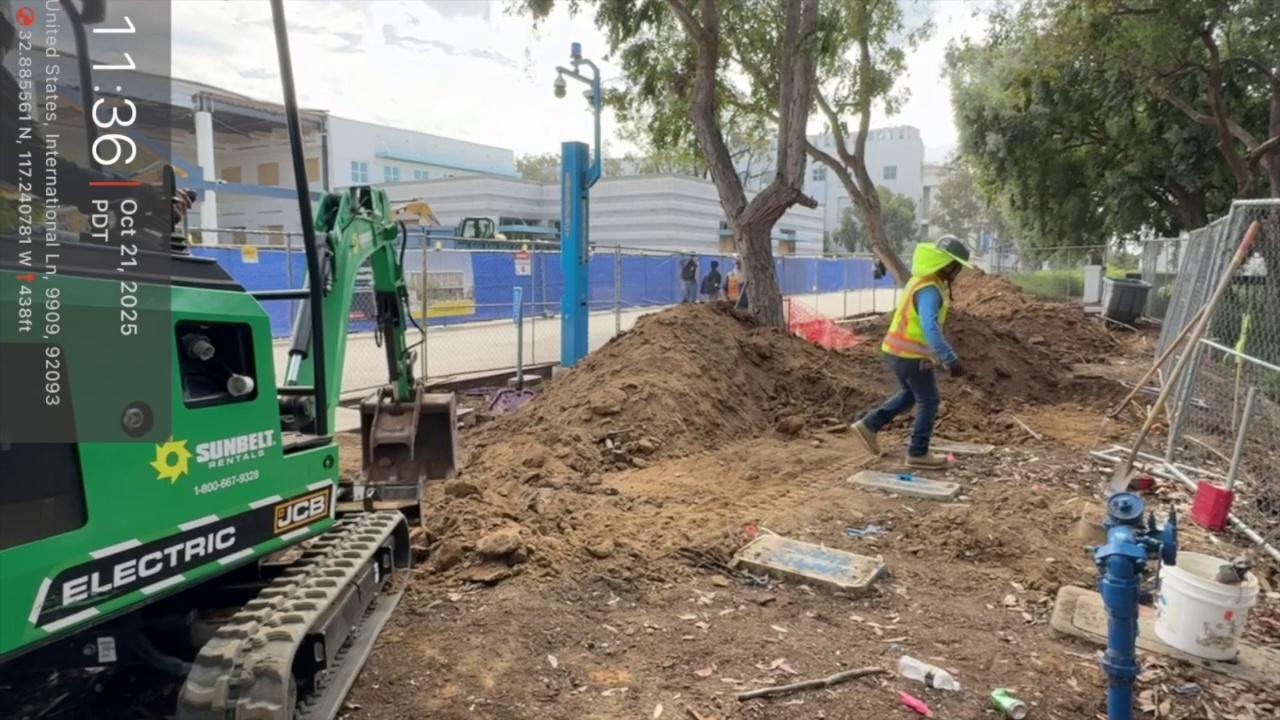Exacavator: (0, 171, 504, 720)
